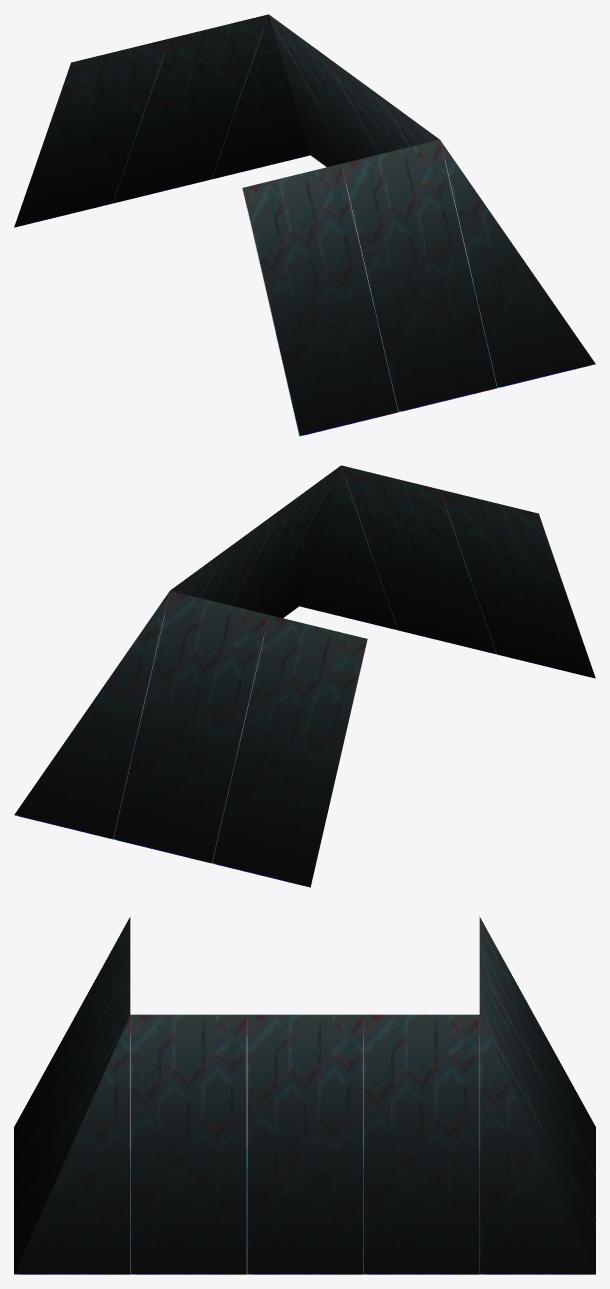
The model's file is arch_winter_wallBottom_cornerOutDouble.FBX.
3 views of the same model, one above another, from view 1: azimuth 30°, elevation 25°; view 2: azimuth 150°, elevation 25°; view 3: azimuth 270°, elevation 25° (orthographic).
Parts seen in each view (by area): view 1: arch_winter_wallBottom_cornerOutDouble; view 2: arch_winter_wallBottom_cornerOutDouble; view 3: arch_winter_wallBottom_cornerOutDouble.
Part boxes in pixels (bbox=[...]): arch_winter_wallBottom_cornerOutDouble: bbox=[14, 14, 595, 436]; arch_winter_wallBottom_cornerOutDouble: bbox=[14, 465, 595, 887]; arch_winter_wallBottom_cornerOutDouble: bbox=[14, 917, 595, 1274].
Bounding box in the file's own units: 6 × 4 × 10.
Materials: 1 (1 with a texture image).
